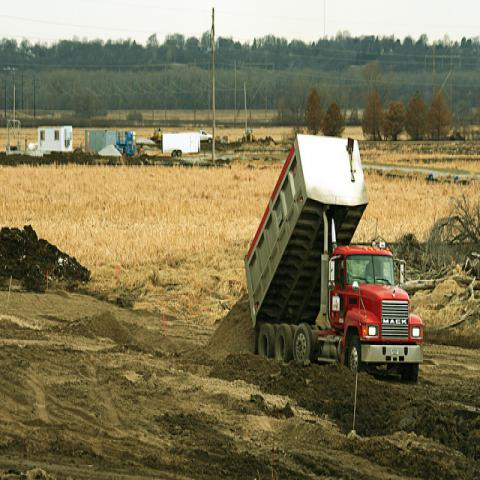truck: (244, 133, 424, 383), (85, 130, 136, 156), (200, 130, 213, 142)
